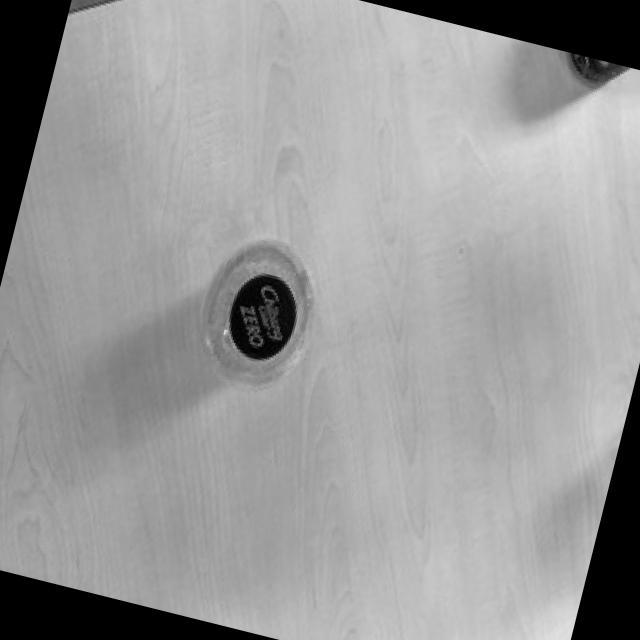good: (176, 220, 338, 412)
